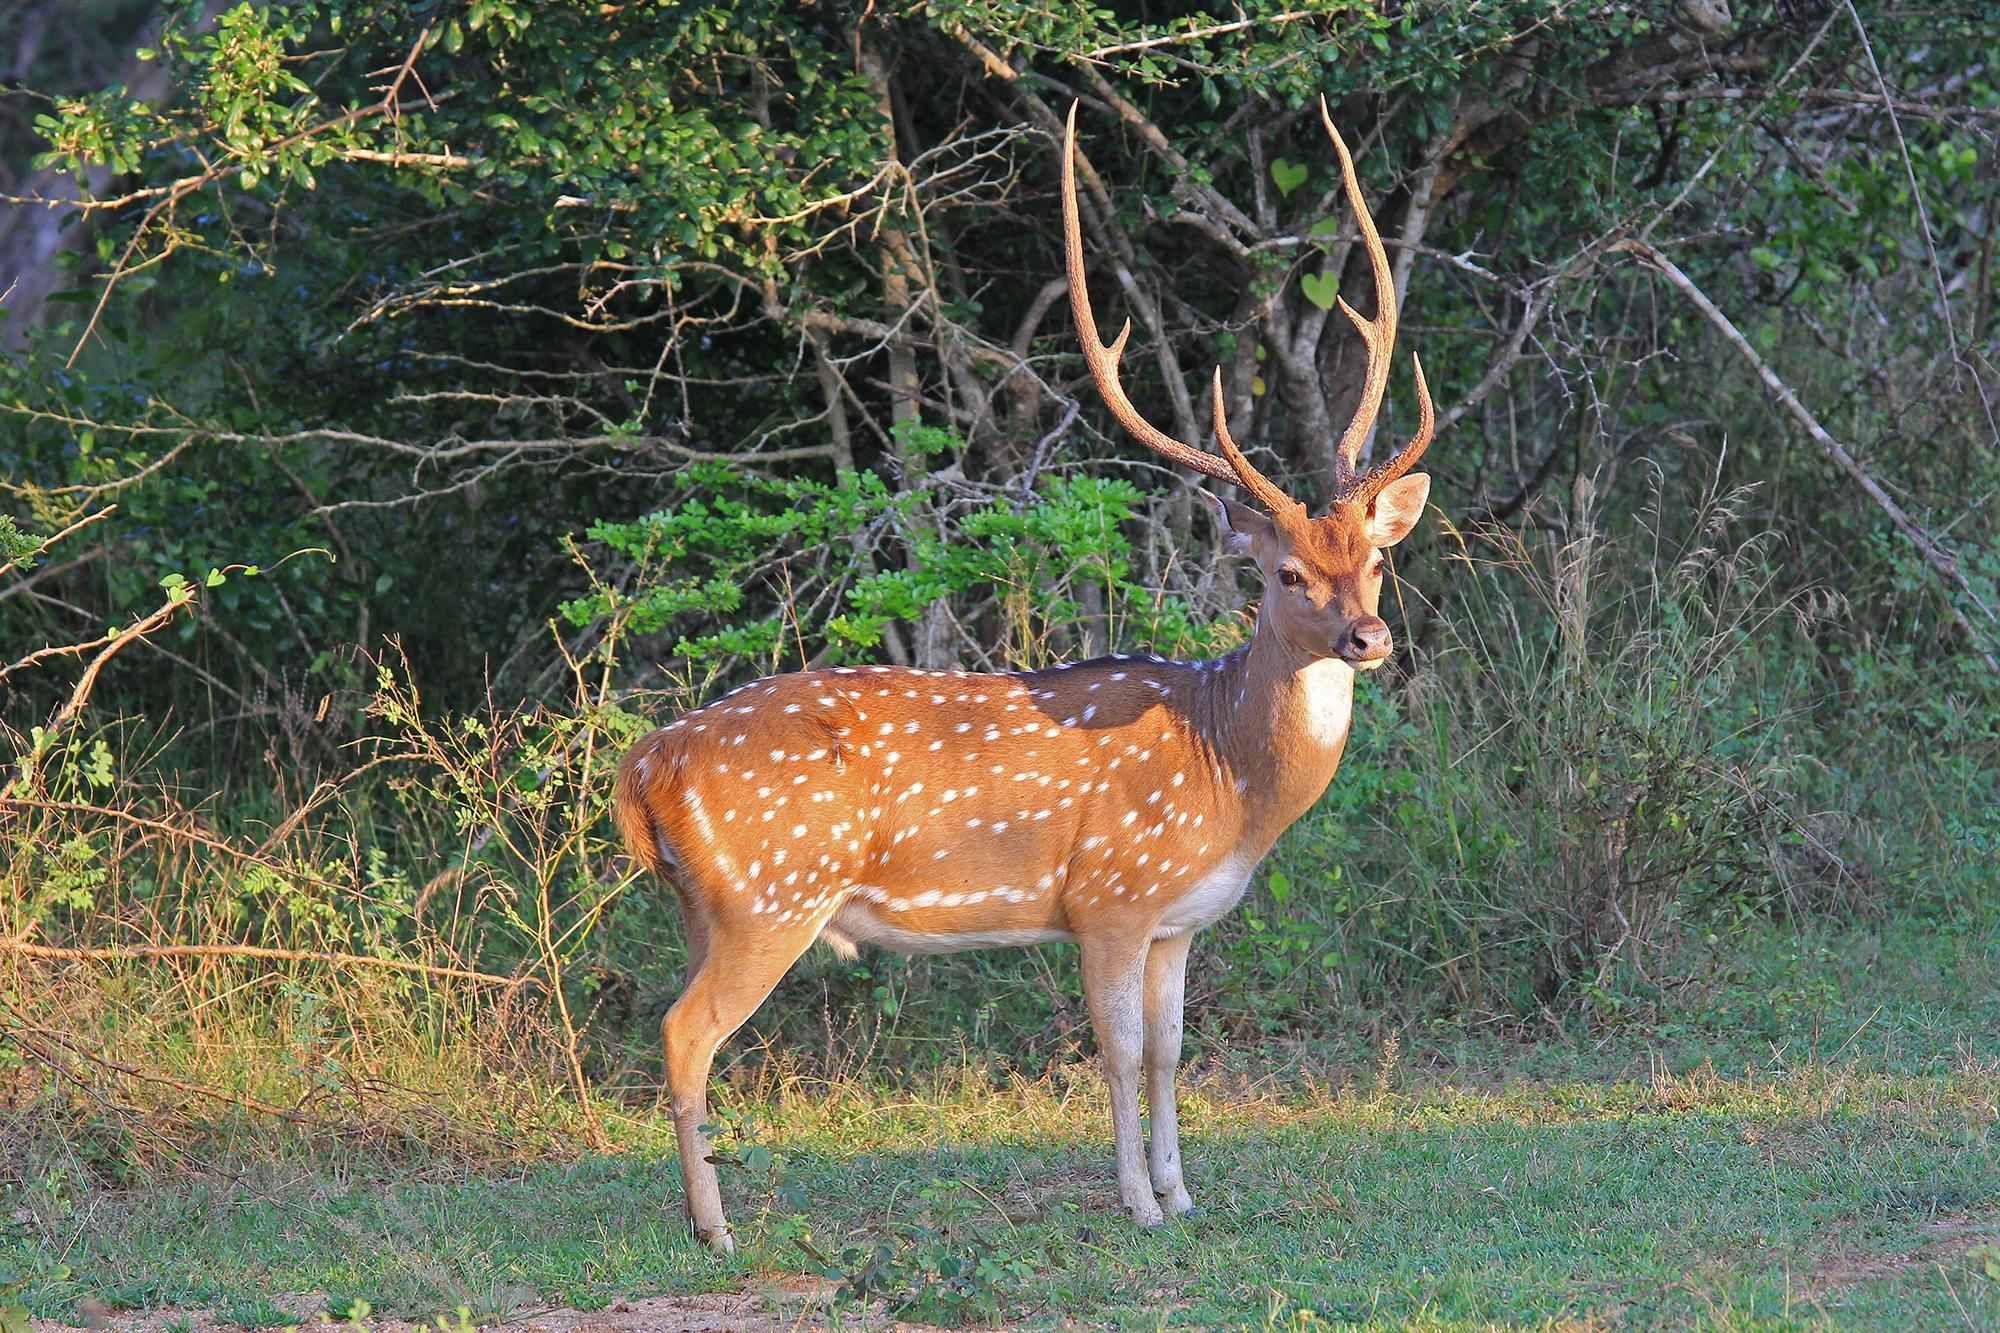Deer: (616, 103, 1433, 1248)
